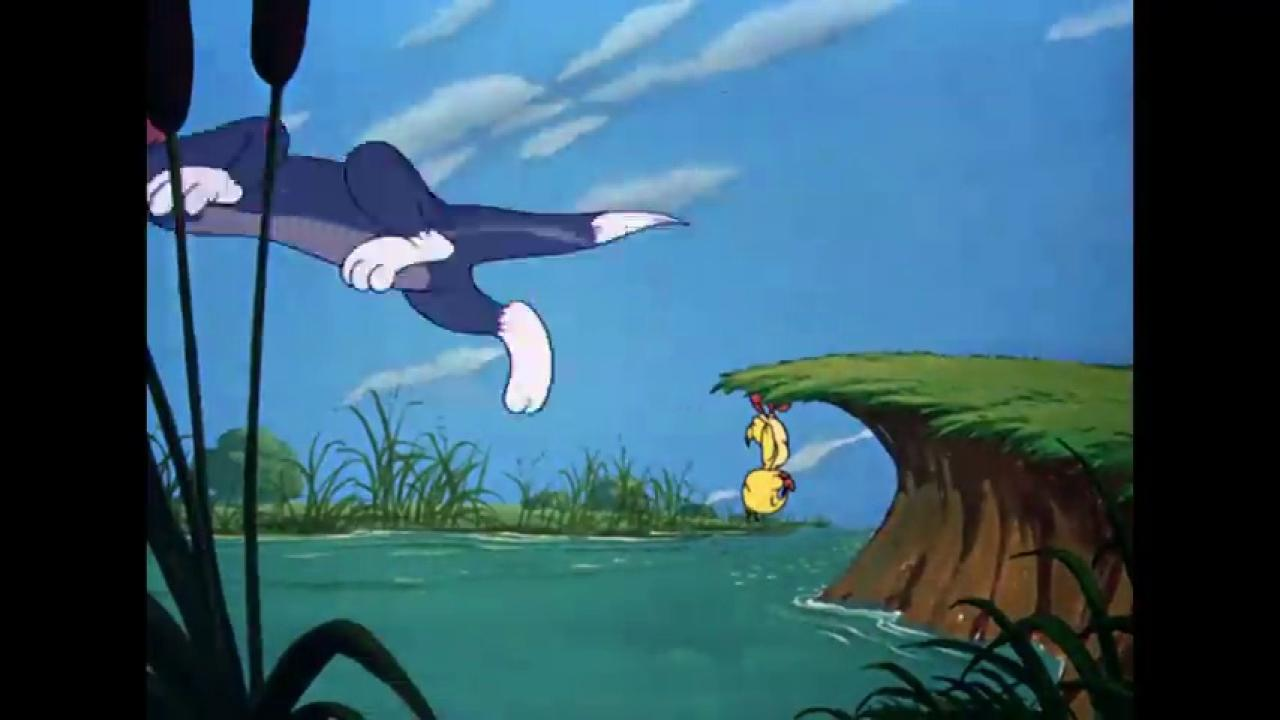Tom: (146, 114, 692, 415)
